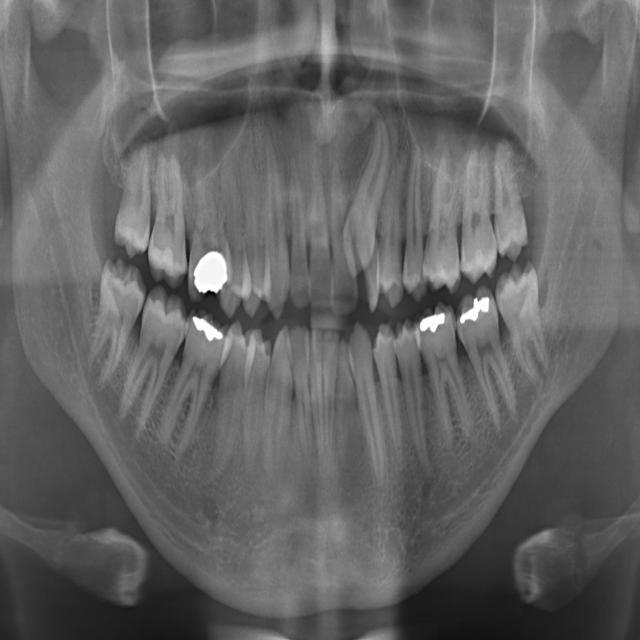AmalgamRestoration: (193, 254, 227, 293), (461, 296, 494, 326), (193, 312, 222, 345), (415, 310, 447, 335)
CompositeResinRestoration: (149, 236, 172, 268)
ImpactedTooth: (345, 121, 396, 271)
